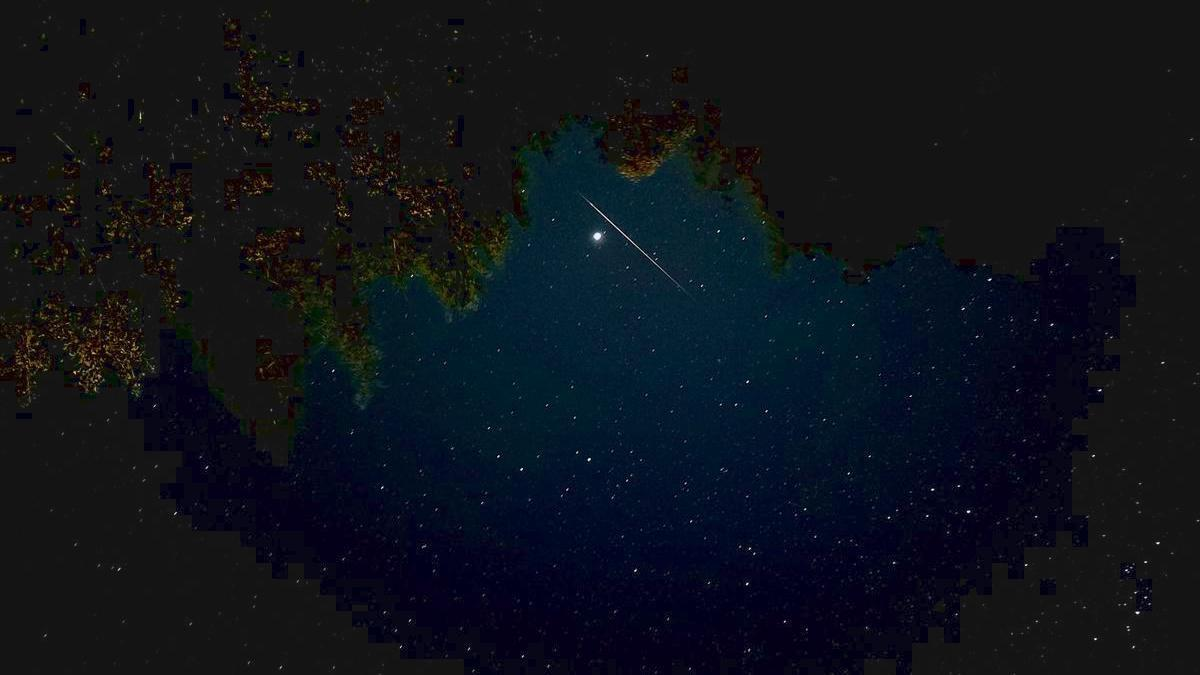meteorite: (575, 176, 734, 308)
